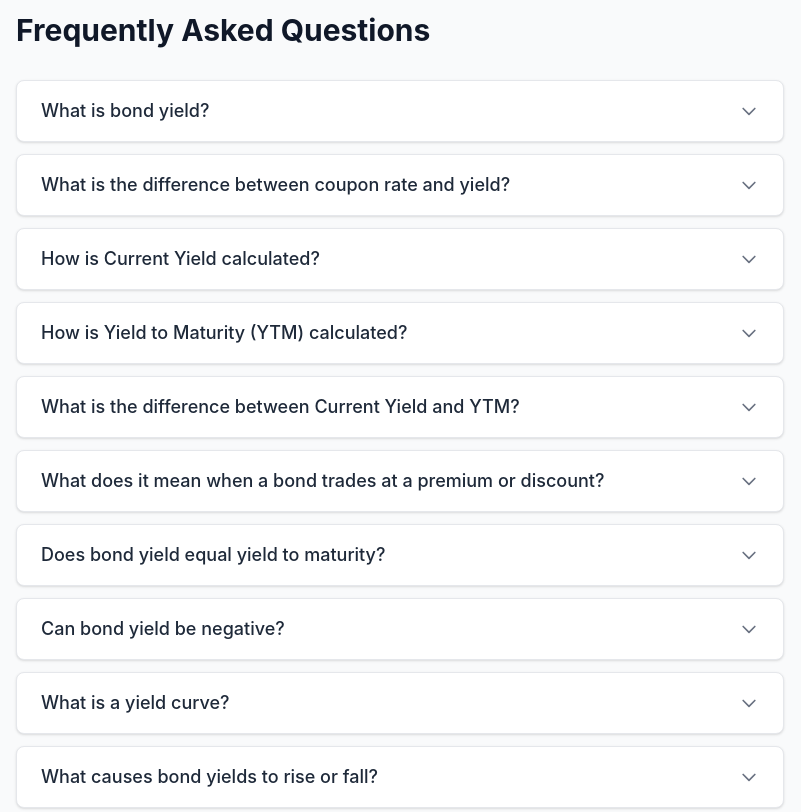
Test: FaqPage › shows answer when question is clicked
What coordinates should you click on to do the following:
click the button "What is bond yield?"
I would click on:
 (125, 110)
Its box is [17,81,783,141].
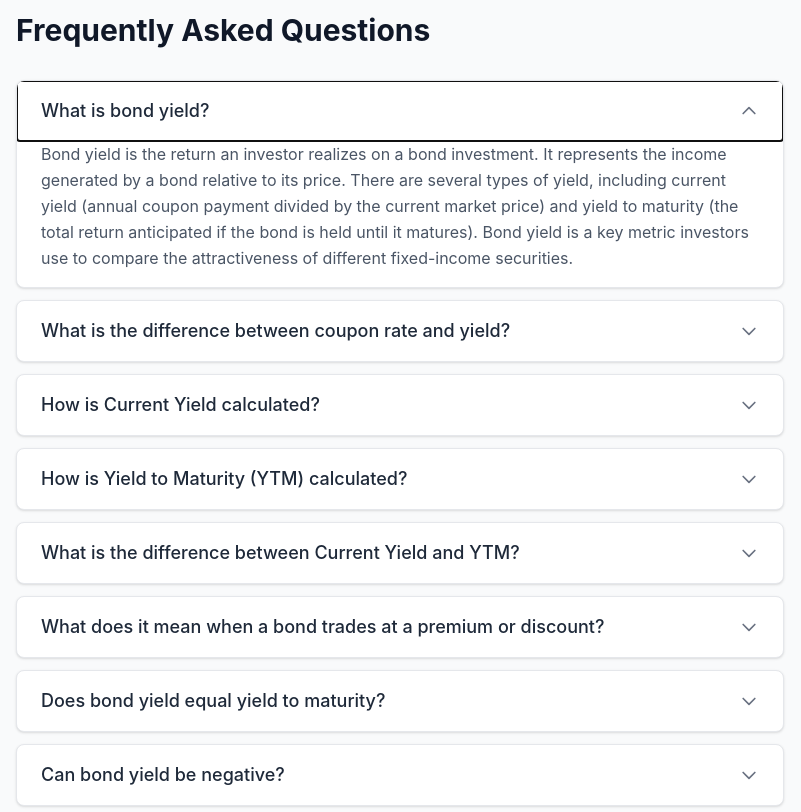
Expected: the text "Bond yield is the return an investor realizes on a bond investment. It represents the income generated by a bond relativ" is shown, [41,144,749,268]
